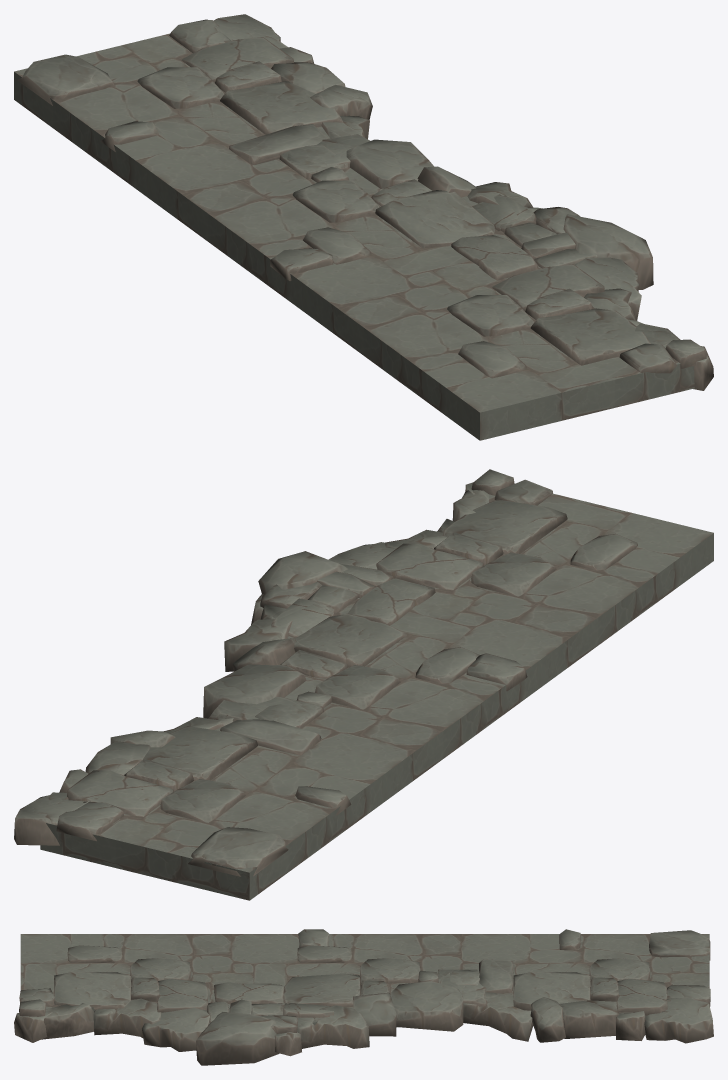
The model's file is SM_FW01_Ruins_Int_Floor_6x6_Brkn_03.fbx.
3 renders of one model, top to bottom at view 1: azimuth 30°, elevation 25°; view 2: azimuth 150°, elevation 25°; view 3: azimuth 270°, elevation 25°, orthographic. The views are drawn at different scales.
Visible parts, largest first — view 1: SM_FW01_Ruins_Int_Floor_6x6_Brkn_03_LOD0, SM_FW01_Ruins_Int_Floor_6x6_Brkn_03; view 2: SM_FW01_Ruins_Int_Floor_6x6_Brkn_03_LOD0, SM_FW01_Ruins_Int_Floor_6x6_Brkn_03; view 3: SM_FW01_Ruins_Int_Floor_6x6_Brkn_03_LOD0, SM_FW01_Ruins_Int_Floor_6x6_Brkn_03.
Part boxes in pixels (x1,y1,x2,y2): SM_FW01_Ruins_Int_Floor_6x6_Brkn_03_LOD0: [17, 14, 713, 390]; SM_FW01_Ruins_Int_Floor_6x6_Brkn_03: [14, 33, 694, 440]; SM_FW01_Ruins_Int_Floor_6x6_Brkn_03_LOD0: [14, 469, 637, 876]; SM_FW01_Ruins_Int_Floor_6x6_Brkn_03: [40, 493, 713, 900]; SM_FW01_Ruins_Int_Floor_6x6_Brkn_03_LOD0: [14, 929, 713, 1065]; SM_FW01_Ruins_Int_Floor_6x6_Brkn_03: [20, 934, 709, 1027].
Size of what is drawn, in the model's own units: 2.26 by 0.3669 by 6.1.
